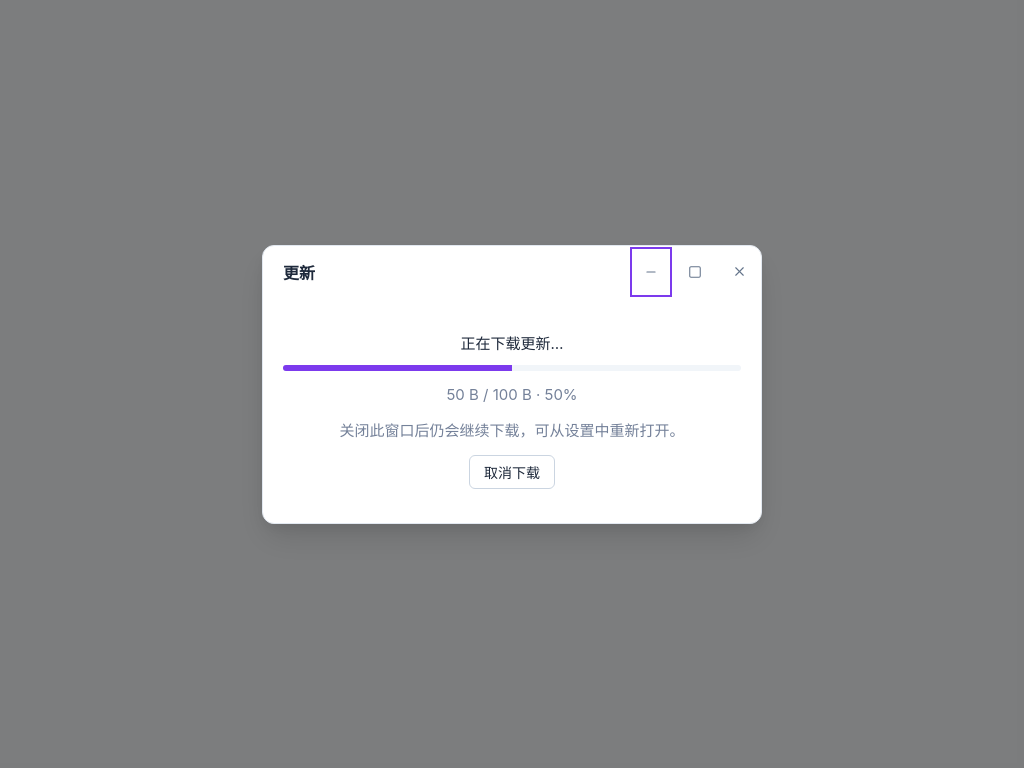
关键交互组件 › 重新打开更新窗口恢复下载状态，忽略过期事件，并能取消下载
Click the button "取消下载".
click(512, 472)  # box left=469, top=454, right=555, bottom=488
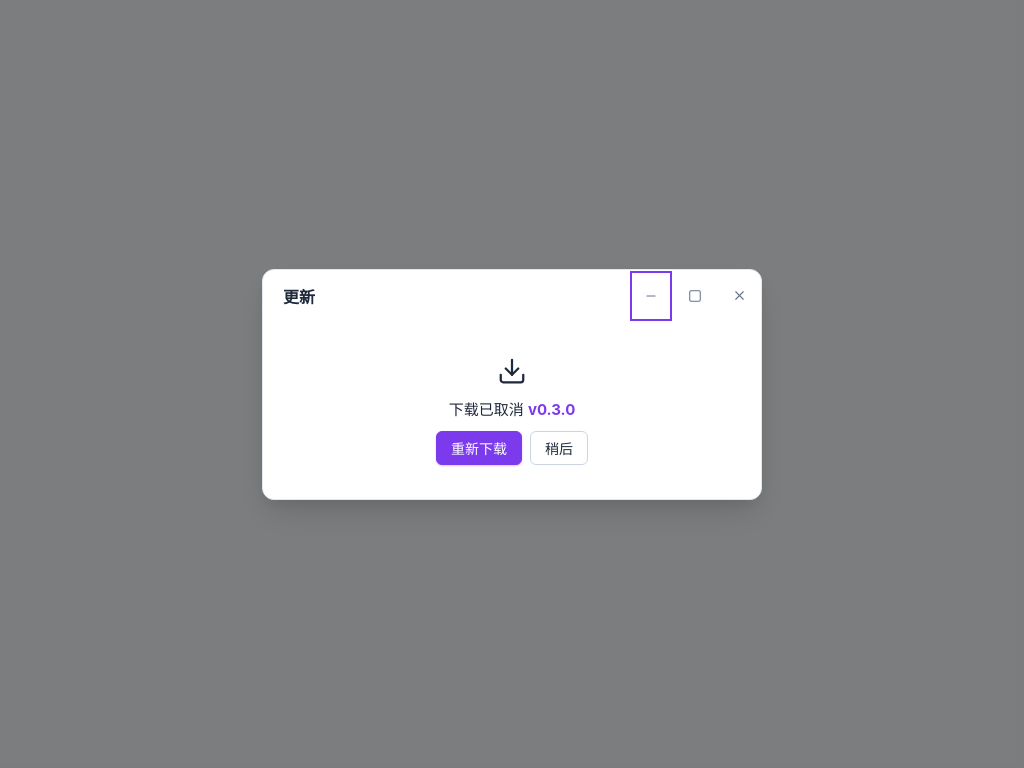
Expected: the text "下载已取消" is shown, left=449, top=400, right=528, bottom=418
